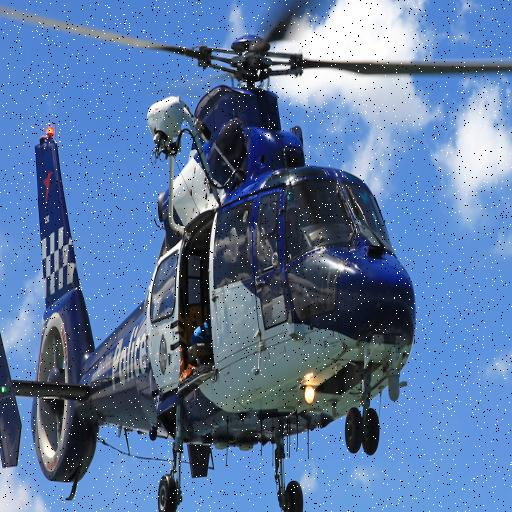helicopter: (1, 1, 495, 512)
